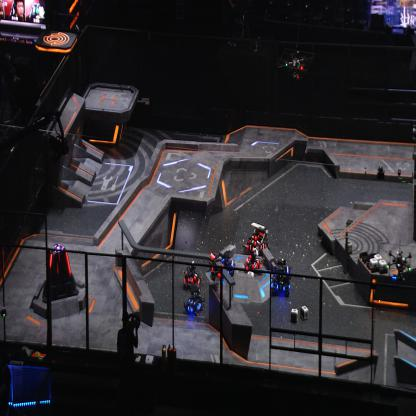car: (242, 222, 268, 258), (269, 257, 291, 296), (183, 283, 205, 317), (181, 260, 202, 292), (244, 247, 264, 277), (217, 249, 235, 281)
